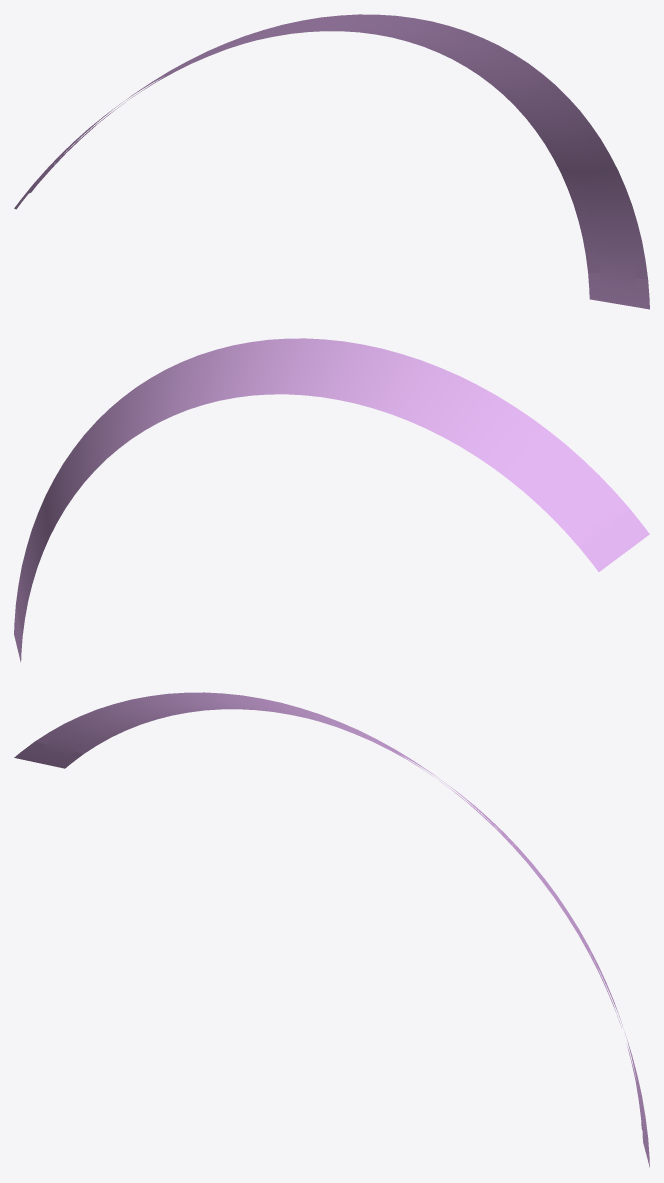
File: Mesh_Note_23.fbx
3 views of the same model, one above another, from view 1: azimuth 30°, elevation 25°; view 2: azimuth 150°, elevation 25°; view 3: azimuth 330°, elevation 25° (orthographic).
Visible parts, largest first — view 1: Mesh_Note_23; view 2: Mesh_Note_23; view 3: Mesh_Note_23.
Boxes of the visible parts, <box> form: Mesh_Note_23: <box>14,14,649,309</box>; Mesh_Note_23: <box>14,338,649,662</box>; Mesh_Note_23: <box>14,692,649,1167</box>.
Size of the model in its own units: 3.07 by 1.74 by 0.2235.
